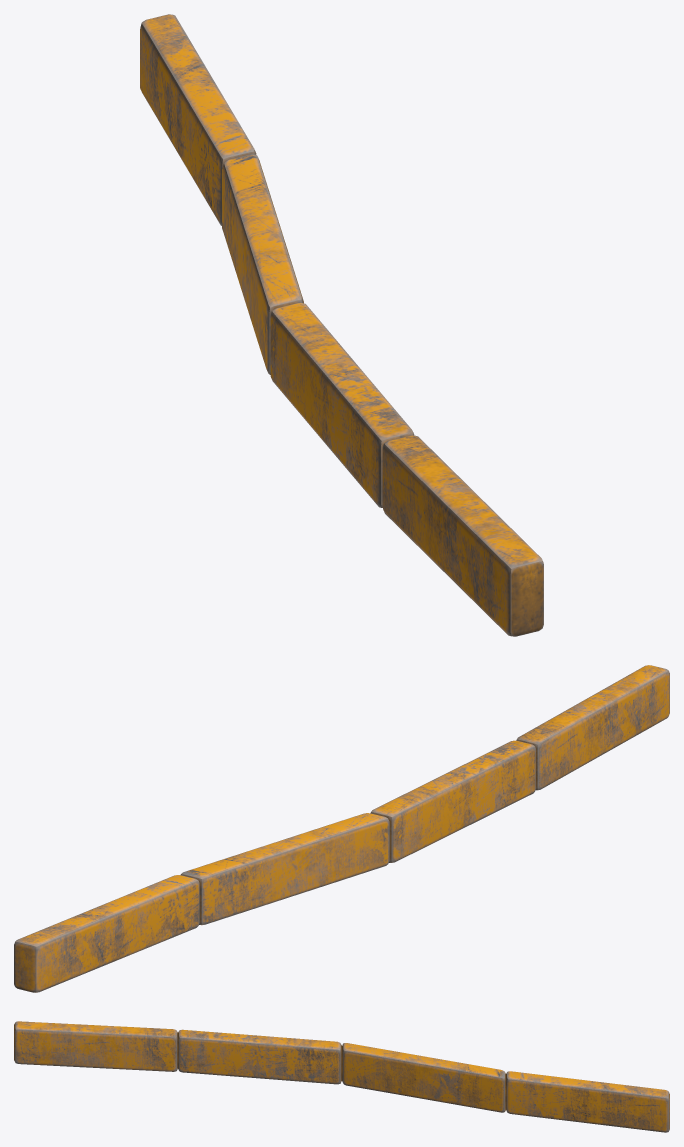
The model's file is SM_Curb3.fbx.
3 renders of one model, top to bottom at view 1: azimuth 30°, elevation 25°; view 2: azimuth 150°, elevation 25°; view 3: azimuth 270°, elevation 25°, orthographic. The views are drawn at different scales.
Parts seen in each view (by area): view 1: SM_Curb3_LOD0; view 2: SM_Curb3_LOD0; view 3: SM_Curb3_LOD0.
Boxes of the visible parts, x1,y1,x2,y2 form: SM_Curb3_LOD0: (140,14,543,636); SM_Curb3_LOD0: (14,665,669,992); SM_Curb3_LOD0: (14,1021,669,1132).
Size of the model in its own units: 112 by 400 by 24.79.
1 material, 1 textured.
